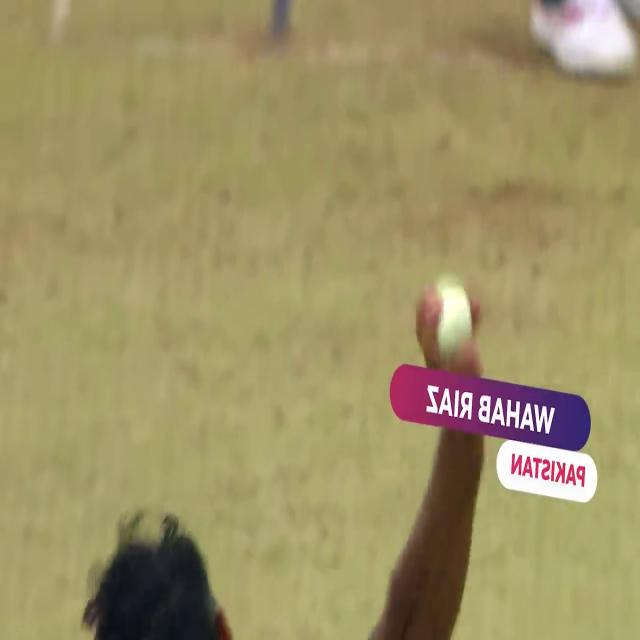ball: (406, 271, 488, 404)
